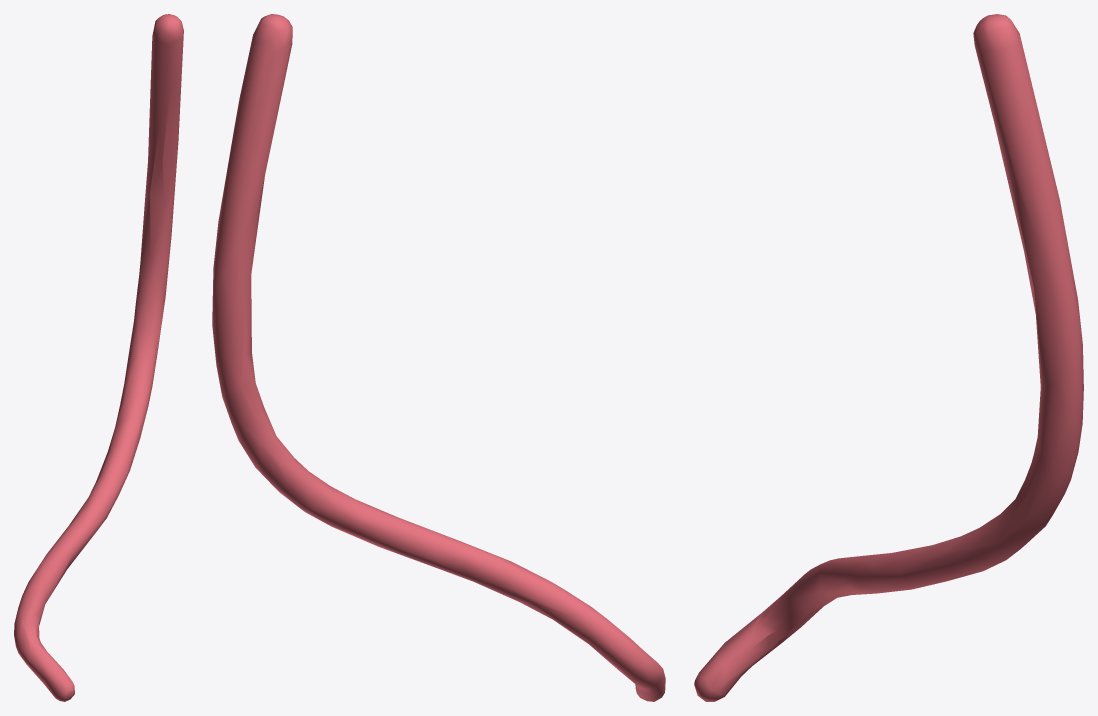
The model's file is fma79568_fj5078.glb.
3 views of the same model, side by side, from view 1: azimuth 30°, elevation 25°; view 2: azimuth 150°, elevation 25°; view 3: azimuth 270°, elevation 25° (orthographic). The views are drawn at different scales.
Visible parts, largest first — view 1: FMA79568_FJ5078; view 2: FMA79568_FJ5078; view 3: FMA79568_FJ5078.
Part boxes in pixels (box(x1,y1,x2,y2)): FMA79568_FJ5078: box(14, 14, 183, 701); FMA79568_FJ5078: box(212, 14, 665, 701); FMA79568_FJ5078: box(694, 14, 1083, 701).
Size of the model in its own units: 0.0141 by 0.0301 by 0.0128.
